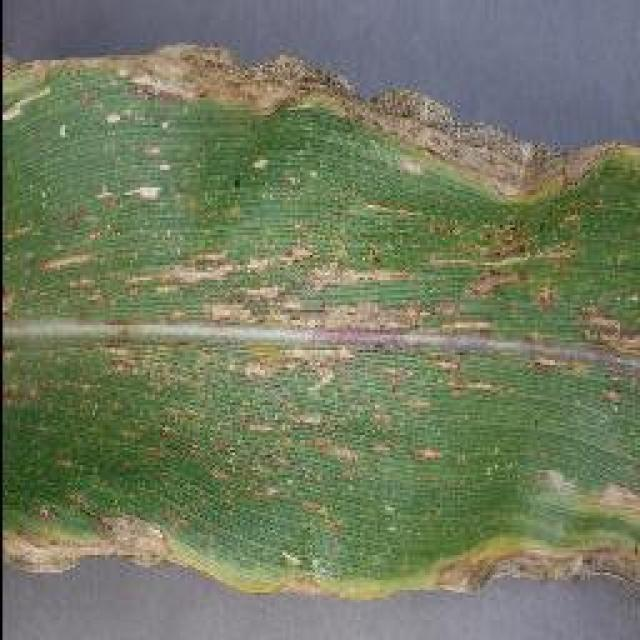Corn_Grey_Leaf_Spot: (19, 78, 631, 572)
